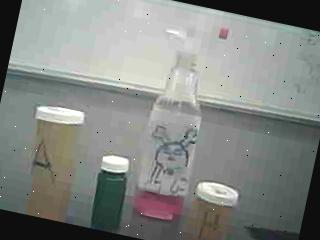Bottle A: (10, 100, 97, 225)
Bottle B: (182, 168, 249, 240)
Bottle C: (84, 147, 139, 234)
hazard: (125, 14, 233, 230)
